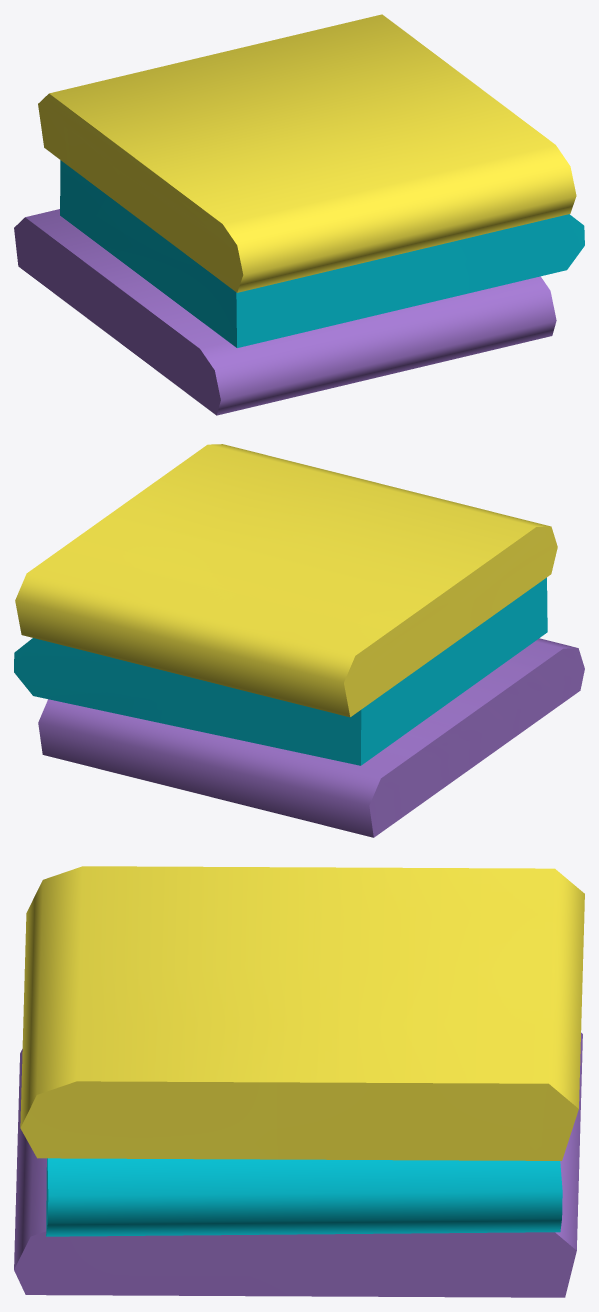
Rendered from shop_011.fbx.
3 views of the same model, one above another, from view 1: azimuth 30°, elevation 25°; view 2: azimuth 150°, elevation 25°; view 3: azimuth 270°, elevation 25° (orthographic). The views are drawn at different scales.
Parts seen in each view (by area): view 1: shop_011; view 2: shop_011; view 3: shop_011.
Boxes of the visible parts, x1,y1,x2,y2 form: shop_011: (14,14,584,415); shop_011: (14,444,584,837); shop_011: (14,866,584,1297).
Size of the model in its own units: 41.04 by 40.69 by 17.96.
